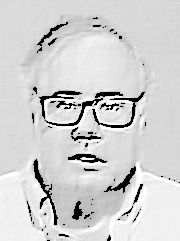nose_M_C: (70, 110, 104, 151)
